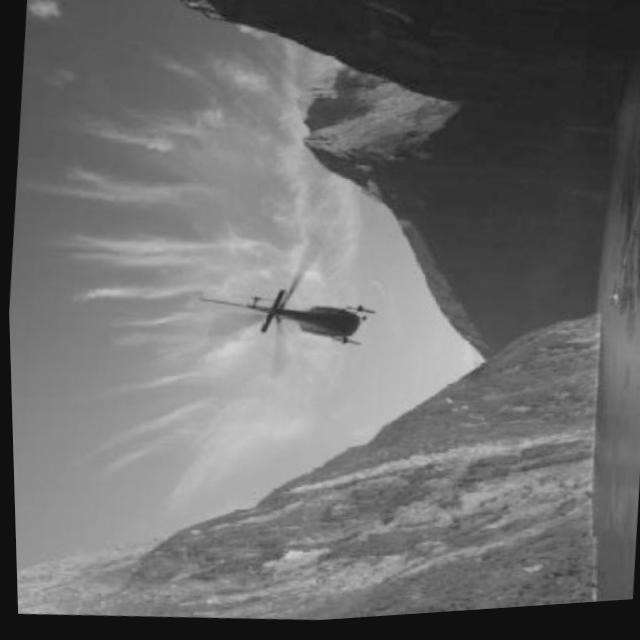helikopter: (193, 220, 390, 395)
